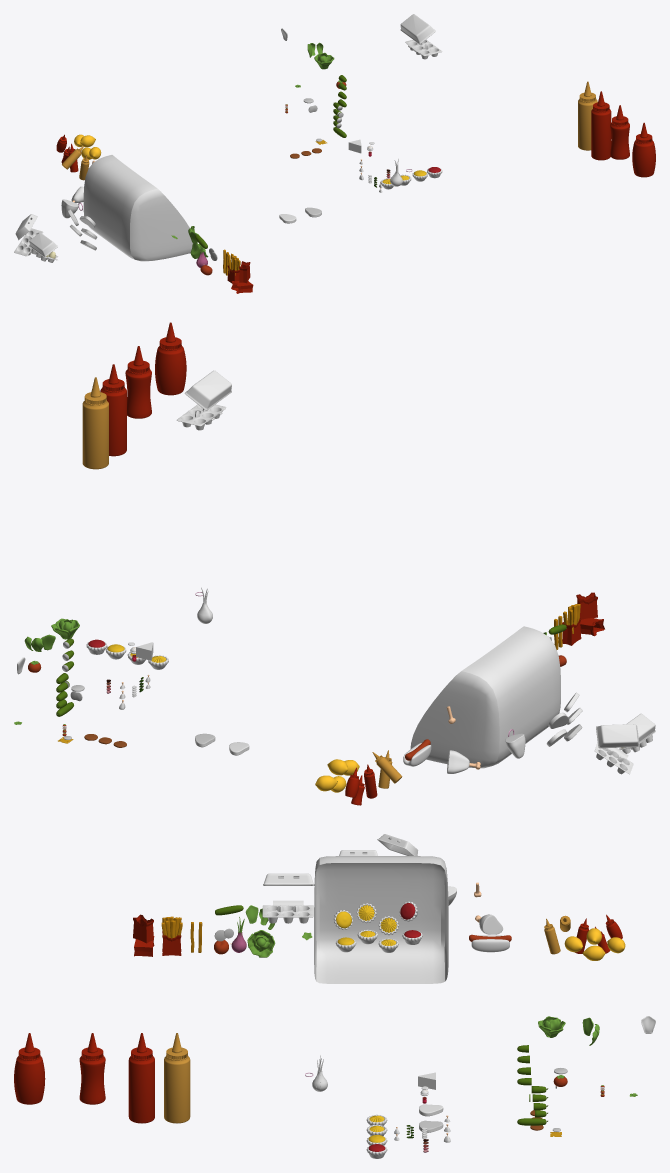
Rendered from Steak.fbx.
The picture shows the model from 3 angles, top to bottom: view 1: azimuth 30°, elevation 25°; view 2: azimuth 150°, elevation 25°; view 3: azimuth 270°, elevation 25°; orthographic projection. The views are drawn at different scales.
Visible parts, largest first — view 1: Cube.022, Cylinder.012, Cylinder.027, Cylinder.023, Cylinder.025, Cube.101, Cube.096, Cube.097; view 2: Cube.022, Cylinder.023, Cylinder.027, Cylinder.012, Cylinder.025, Cube.101, Cube.100, Cube.097; view 3: Cube.022, Cylinder.023, Cylinder.012, Cylinder.027, Cylinder.025, Cube.097, Cube.101, Cube.054, Cube.100, Cube.075, Plane.005.
Boxes of the visible parts, x1,y1,x2,y2 form: Cube.022: (83, 155, 192, 261); Cylinder.012: (591, 109, 611, 160); Cylinder.027: (632, 140, 655, 177); Cylinder.023: (578, 99, 597, 150); Cylinder.025: (610, 123, 629, 159); Cube.101: (400, 14, 435, 43); Cube.096: (29, 232, 57, 256); Cube.097: (405, 39, 442, 59); Cube.022: (410, 626, 560, 768); Cylinder.023: (82, 401, 108, 469); Cylinder.027: (155, 346, 186, 395); Cylinder.012: (100, 388, 126, 456); Cylinder.025: (125, 369, 151, 418); Cube.101: (184, 370, 231, 410); Cube.100: (596, 724, 639, 748); Cube.097: (176, 404, 226, 430); Cube.022: (314, 856, 448, 983); Cylinder.023: (164, 1056, 190, 1123); Cylinder.012: (128, 1056, 154, 1123); Cylinder.027: (14, 1056, 45, 1104); Cylinder.025: (79, 1056, 105, 1104); Cube.097: (262, 900, 313, 923); Cube.101: (263, 873, 314, 885); Cube.054: (247, 930, 275, 957); Cube.100: (377, 834, 418, 855); Cube.075: (471, 935, 509, 952); Plane.005: (133, 914, 153, 943).
Bounding box in the file's own units: 8463 × 3571 × 7180.
